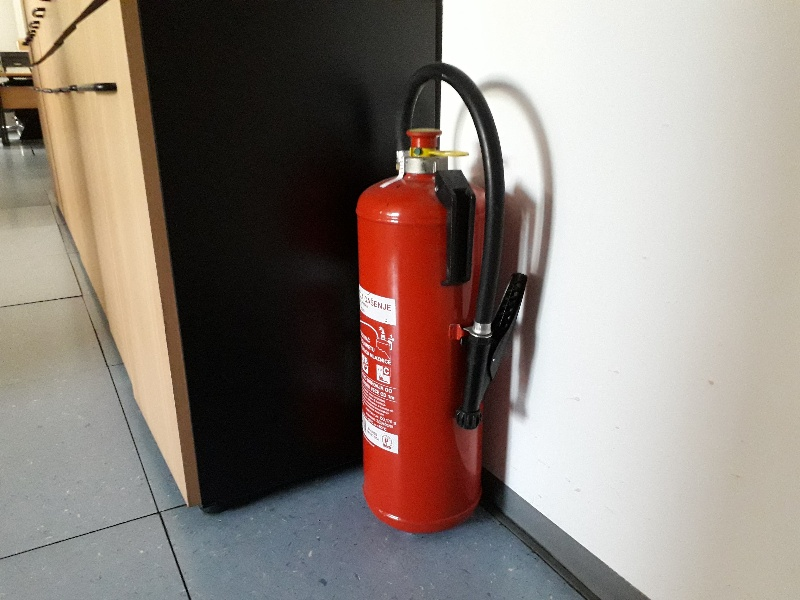vataparat: (355, 66, 527, 533)
